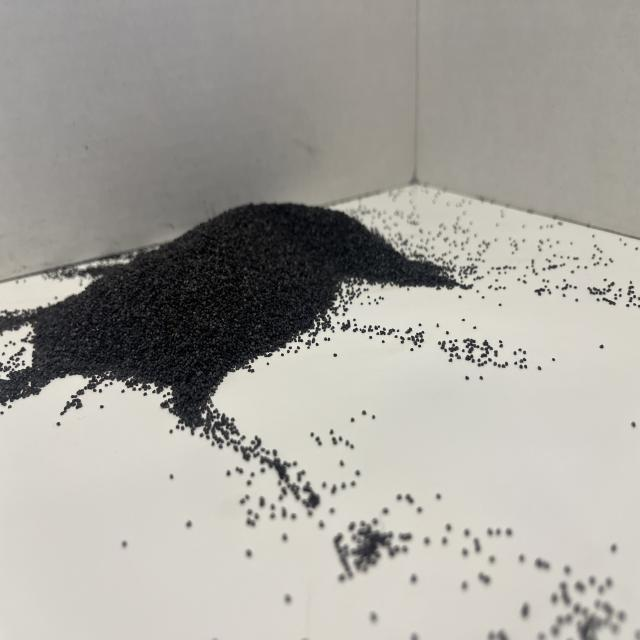Poppy Seeds: (26, 192, 477, 425)
